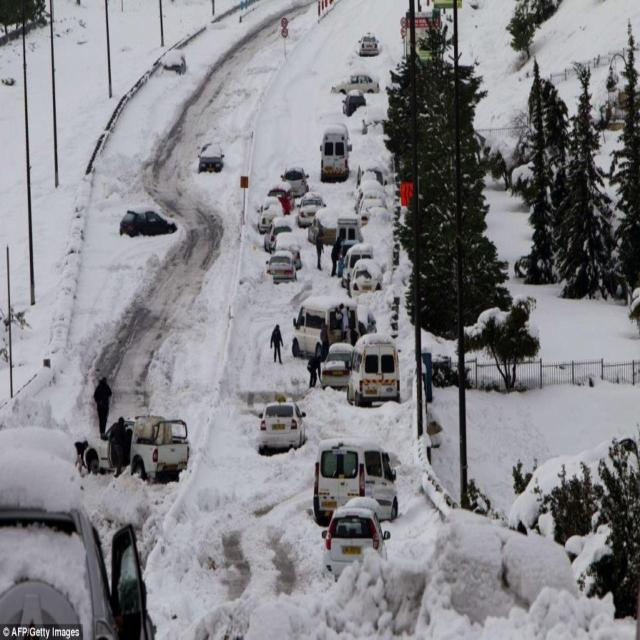Car: (0, 503, 157, 640), (322, 507, 391, 584), (259, 393, 306, 453), (119, 209, 178, 238), (320, 351, 359, 390), (347, 266, 383, 298), (331, 74, 380, 97), (270, 238, 302, 272), (266, 251, 297, 284), (337, 240, 364, 277), (264, 220, 295, 252), (280, 165, 310, 198), (297, 195, 327, 228), (308, 211, 337, 245), (358, 190, 382, 227), (257, 202, 284, 234), (198, 143, 225, 175), (268, 183, 295, 214), (342, 90, 366, 117), (357, 305, 377, 334), (161, 55, 187, 76), (358, 32, 379, 56)
Truck: (82, 414, 190, 482)
Van: (313, 438, 399, 526), (292, 296, 360, 358), (346, 333, 402, 408), (319, 122, 349, 182)
